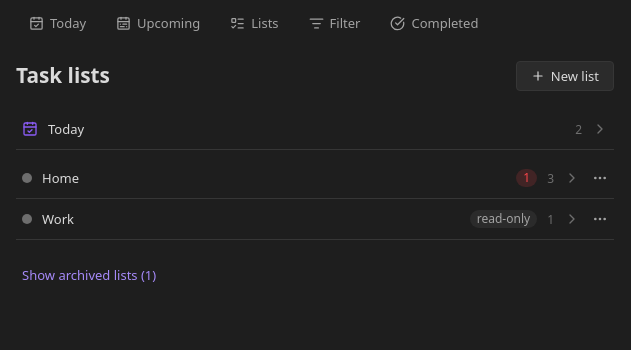
Test: task list index › lists the active lists with open and overdue counts, and archived ones on request
Expected: the text with class "tasks-count" reads "3", [547,170,554,186]
Expected: the text with class "tone-overdue" reads "1", [523,169,530,186]
What coordinates should you click on to do the following:
click the button "Show archived lists (1)"
I would click on:
 (89, 275)
Its box is [22,266,156,284].
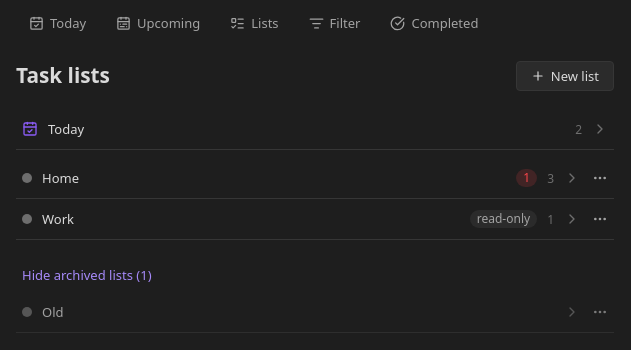
Result: the text "Old" is shown at [42,303,64,321]
